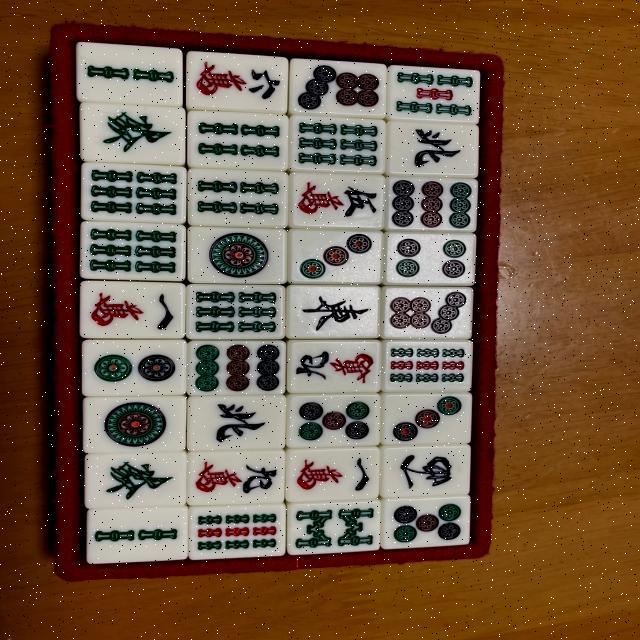bamboos_2: (73, 41, 186, 107), (88, 506, 188, 565)
bamboos_4: (184, 110, 290, 171), (186, 168, 287, 228)
bamboos_5: (386, 62, 480, 124)
bamboos_6: (79, 220, 188, 283), (80, 160, 187, 224), (289, 114, 386, 175), (187, 285, 287, 341)
bamboos_8: (284, 499, 381, 555)
bamboos_9: (187, 502, 286, 560), (379, 338, 472, 393)
characters_1: (78, 278, 187, 338), (284, 446, 380, 503)
characters_5: (287, 170, 387, 230)
characters_6: (184, 50, 291, 114)
characters_9: (186, 450, 286, 508), (284, 338, 381, 394)
circles_1: (80, 394, 188, 454), (185, 225, 289, 286)
circles_2: (77, 337, 187, 396)
circles_3: (286, 228, 384, 286), (380, 391, 471, 448)
circles_4: (379, 230, 476, 286)
circles_5: (284, 391, 381, 449), (381, 495, 472, 551)
circles_7: (288, 56, 388, 119), (380, 285, 473, 339)
circles_9: (186, 339, 286, 395), (386, 174, 477, 232)
east: (285, 284, 382, 340)
green: (78, 103, 187, 165), (84, 451, 189, 508)
north: (187, 393, 285, 450), (386, 123, 479, 181)
west: (379, 445, 470, 501)
